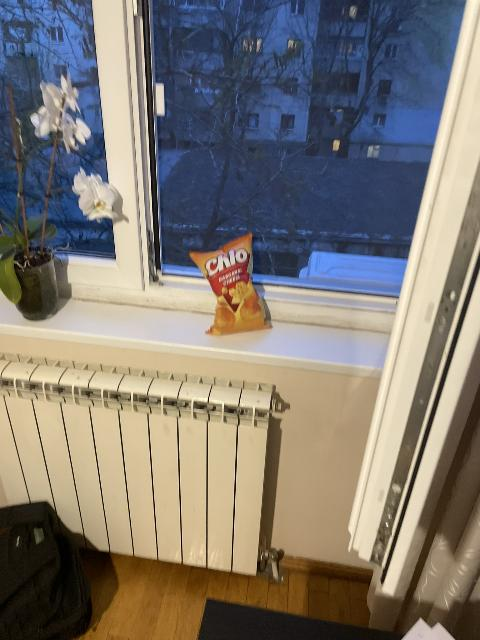Chio Cascaval 125g: (189, 232, 272, 334)
